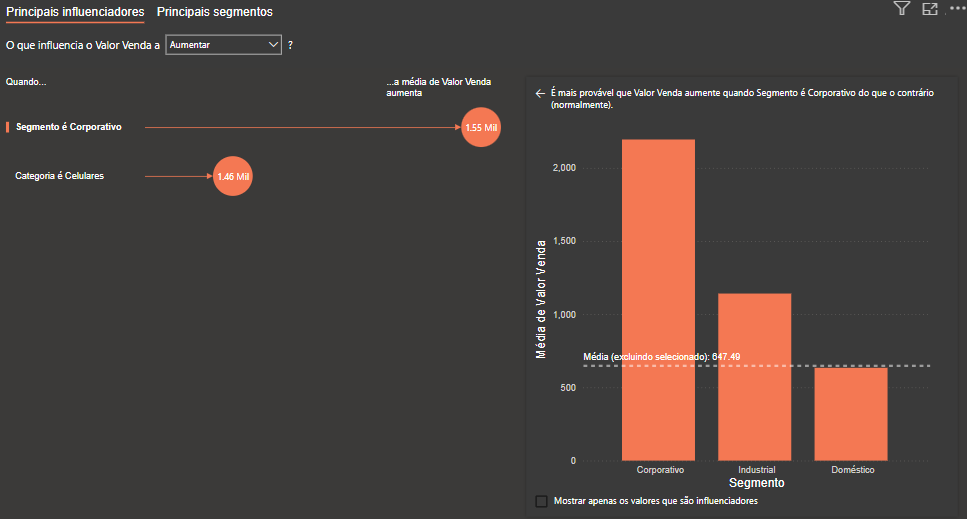

The dashboard page shown, as its layout file describes it:
{"tool":"powerbi","page":{"name":"Principais Influenciadores de Vendas","canvas":[1280,720],"ordinal":2},"visuals":[{"type":"keyDriversVisual","fields":{"Target":["Vendas.ValorVenda"],"ExplainBy":["Vendas.Segmento","Vendas.Categoria"]},"box":[0,10.1,1280.2,695.5],"z":0}]}

Visuals, with their boxes on the page's 1280x720 design canvas (x1, y1, x2, y2). These are canvas units, not pixel positions in the 967x519 screenshot, which may show the page scaled, cropped or inside an application window:
keyDriversVisual - Vendas.ValorVenda x Vendas.Segmento: (0,10,1280,706)
